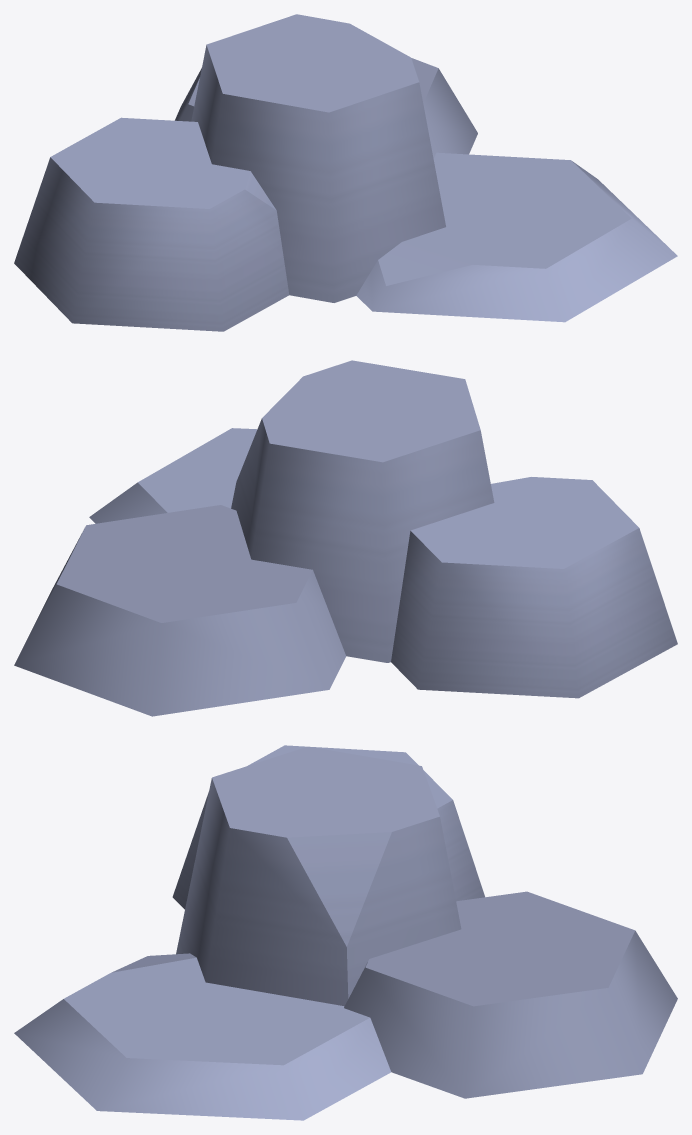
The model's file is detail-rocks.gltf.
The picture shows the model from 3 angles, top to bottom: view 1: azimuth 30°, elevation 25°; view 2: azimuth 150°, elevation 25°; view 3: azimuth 270°, elevation 25°; orthographic projection. The views are drawn at different scales.
Parts seen in each view (by area): view 1: detail-rocks; view 2: detail-rocks; view 3: detail-rocks.
Part boxes in pixels (box(x1,y1,x2,y2)): detail-rocks: box(14, 14, 677, 331); detail-rocks: box(14, 360, 677, 716); detail-rocks: box(14, 745, 677, 1120).
Size of the model in its own units: 0.5975 by 0.1844 by 0.6055.
Materials: 1 (1 with a texture image).
